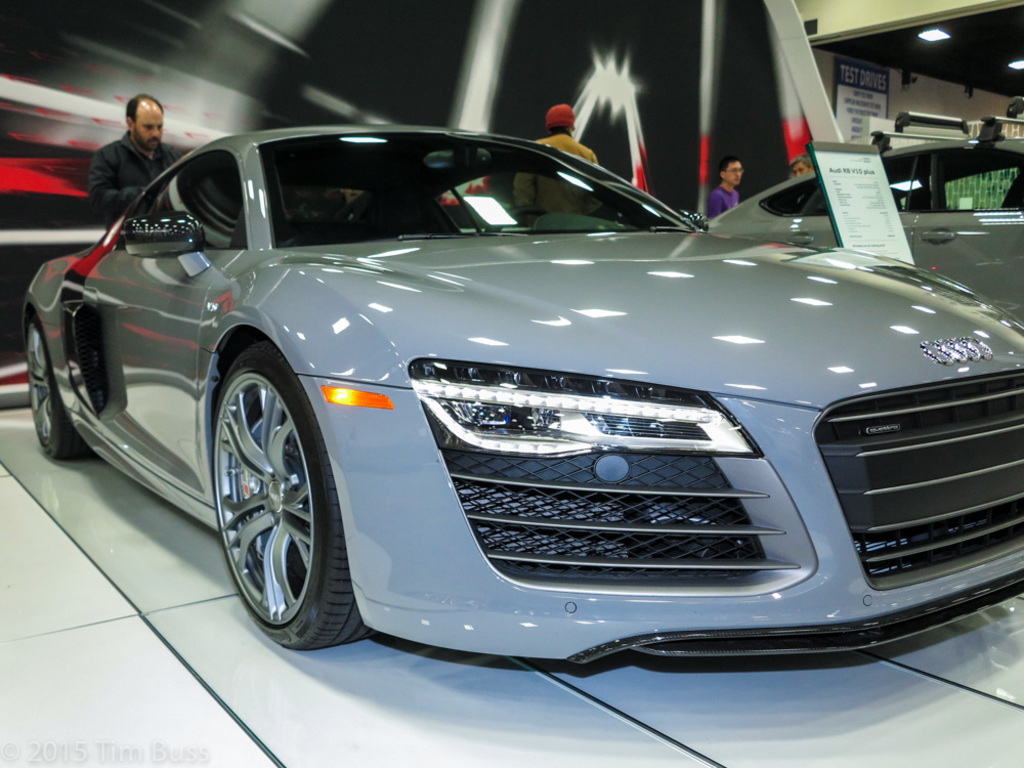Person: (87, 92, 184, 242), (507, 100, 597, 221), (704, 154, 744, 221), (789, 153, 816, 182)
